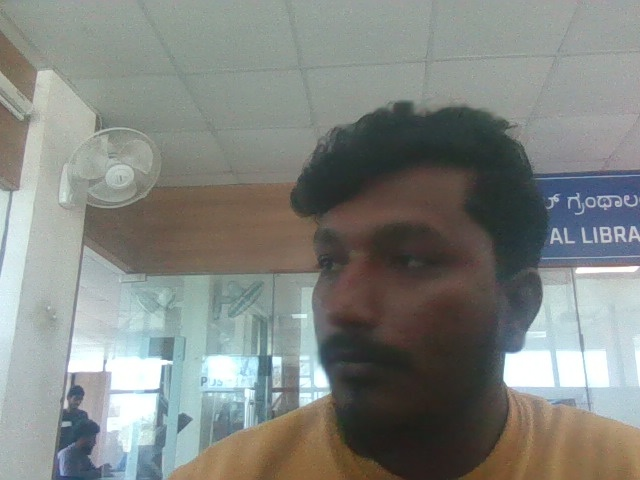real: (286, 72, 541, 434)
